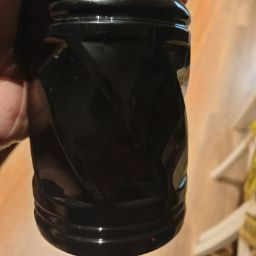Soy Sauce: (12, 29, 213, 248)
